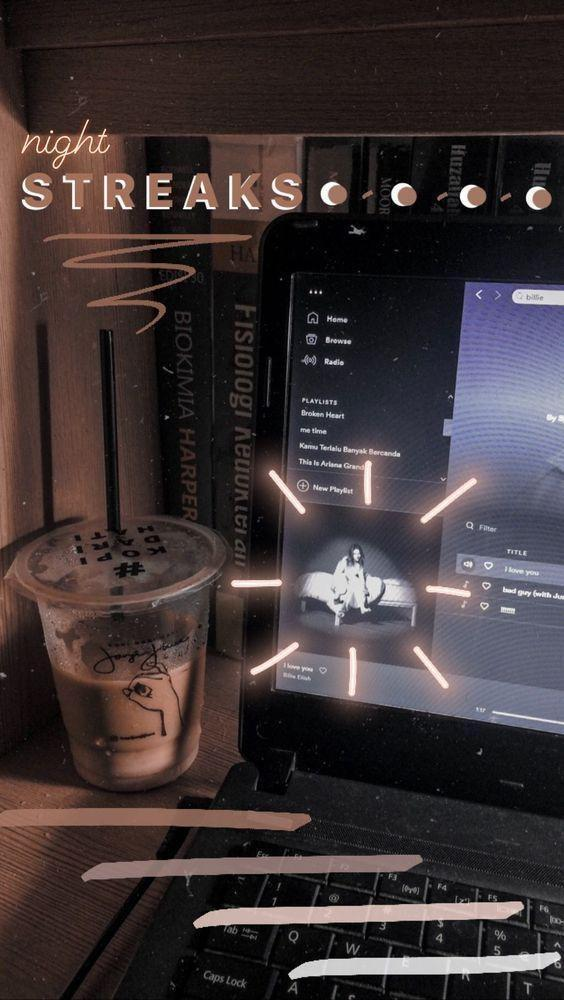cup-disposable: (11, 511, 228, 793)
